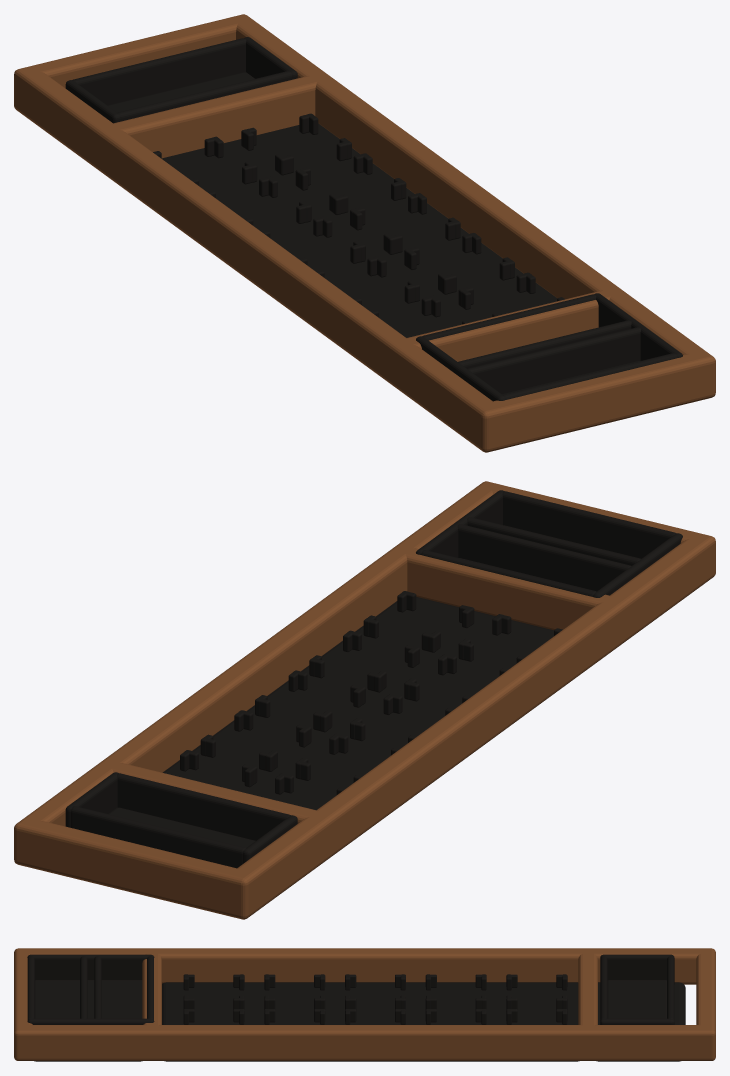
Rendered from player_tray.glb.
3 views of the same model, one above another, from view 1: azimuth 30°, elevation 25°; view 2: azimuth 150°, elevation 25°; view 3: azimuth 270°, elevation 25° (orthographic). The views are drawn at different scales.
Parts seen in each view (by area): view 1: Reserve velvet well, Tray rail vertical, Tray rail vertical.001, Tray rail horizontal.003, Tray rail horizontal.001, Tray rail horizontal.002, Infantry velvet bolster.001, Discard row one velvet bolster, Tray rail horizontal, Infantry velvet bolster, Discard row two velvet bolster.001, Infantry velvet cushion (+6 smaller); view 2: Reserve velvet well, Tray rail vertical, Tray rail vertical.001, Tray rail horizontal, Tray rail horizontal.002, Infantry velvet bolster, Discard row two velvet bolster, Discard row two velvet bolster.001, Infantry velvet bolster.001, Tray rail horizontal.001, Tray rail horizontal.003, Discard row one velvet bolster (+6 smaller); view 3: Tray rail vertical.001, Tray rail vertical, Reserve velvet well, Infantry velvet cushion, Tray rail horizontal, Discard row two velvet cushion, Tray rail horizontal.001, Discard row one velvet cushion, Tray rail horizontal.003, Infantry velvet arm, Tray rail horizontal.002, Discard row one velvet arm (+11 smaller).
Part boxes in pixels (x1,y1,x2,y2): Reserve velvet well: (161,123,556,337); Tray rail vertical: (18,69,492,446); Tray rail vertical.001: (236,18,708,354); Tray rail horizontal.003: (473,351,715,452); Tray rail horizontal.001: (94,73,332,172); Tray rail horizontal.002: (387,287,626,387); Infantry velvet bolster.001: (72,38,246,105); Discard row one velvet bolster: (467,327,640,394); Tray rail horizontal: (14,14,253,114); Infantry velvet bolster: (117,71,292,121); Discard row two velvet bolster.001: (458,320,631,368); Infantry velvet cushion: (107,72,254,112); Reserve velvet well: (163,597,553,810); Tray rail vertical: (236,536,711,912); Tray rail vertical.001: (22,485,493,826); Tray rail horizontal: (14,817,256,919); Tray rail horizontal.002: (390,545,628,645); Infantry velvet bolster: (117,773,291,840); Discard row two velvet bolster: (502,491,676,558); Discard row two velvet bolster.001: (457,524,631,591); Infantry velvet bolster.001: (71,806,245,868); Tray rail horizontal.001: (96,759,335,858); Tray rail horizontal.003: (476,481,715,578); Discard row one velvet bolster: (467,517,640,565); Tray rail vertical.001: (23,1025,706,1060); Tray rail vertical: (27,948,703,984); Reserve velvet well: (162,982,579,1061); Infantry velvet cushion: (607,980,666,1018); Tray rail horizontal: (696,948,715,1060); Discard row two velvet cushion: (35,980,92,1018); Tray rail horizontal.001: (578,948,597,1060); Discard row one velvet cushion: (88,980,142,1018); Tray rail horizontal.003: (14,948,32,1060); Infantry velvet arm: (600,954,674,984); Tray rail horizontal.002: (142,948,161,1060); Discard row one velvet arm: (83,954,154,979).
Size of the model in its own units: 2.86 by 0.635 by 10.
